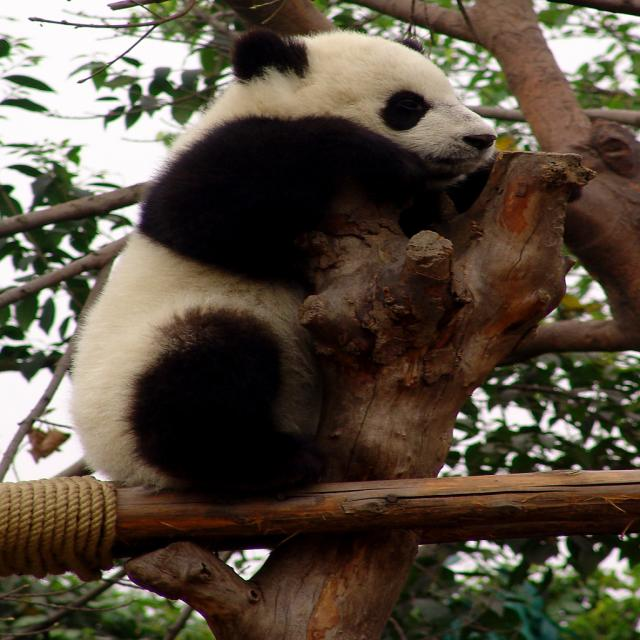panda: (66, 29, 499, 509)
